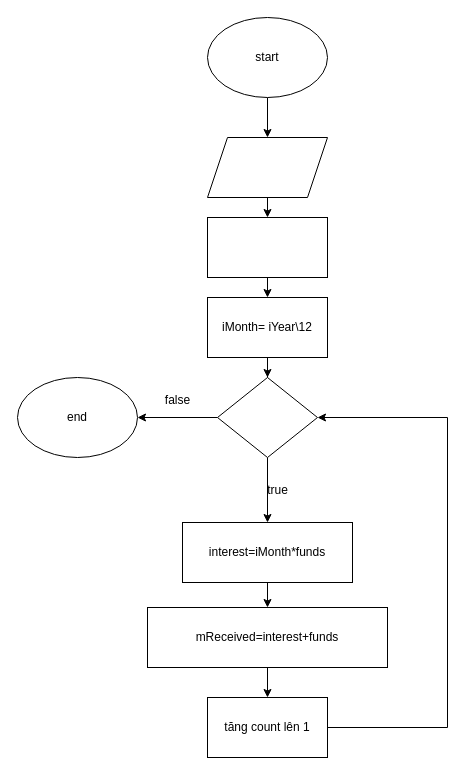
The diagram is 473 pixels wide and 775 high, and some of its shapes have lost their labels. The centre of each missing label's shape, as x and y in pixels:
count<month+1?: pixel 267 417
count=1: pixel 267 247
iYear,funds month,count: pixel 267 167
